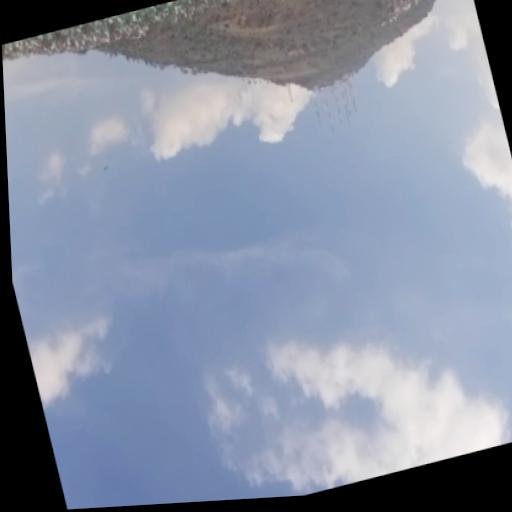drones: (100, 159, 112, 173)
